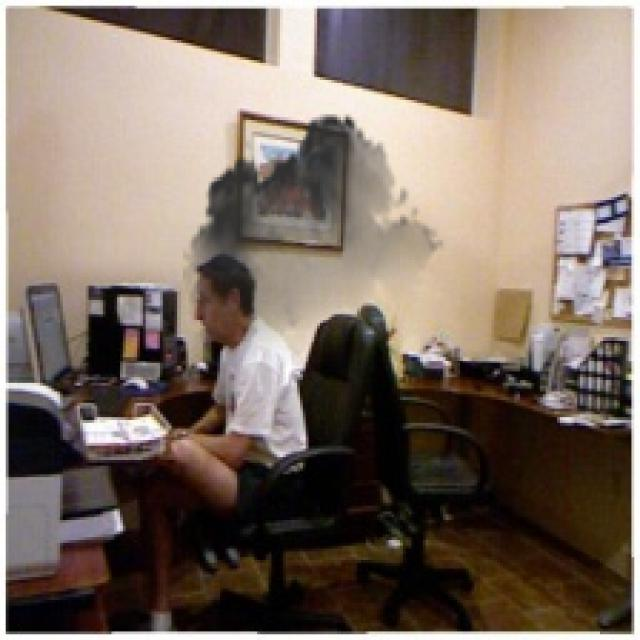smoke: (183, 103, 446, 371)
